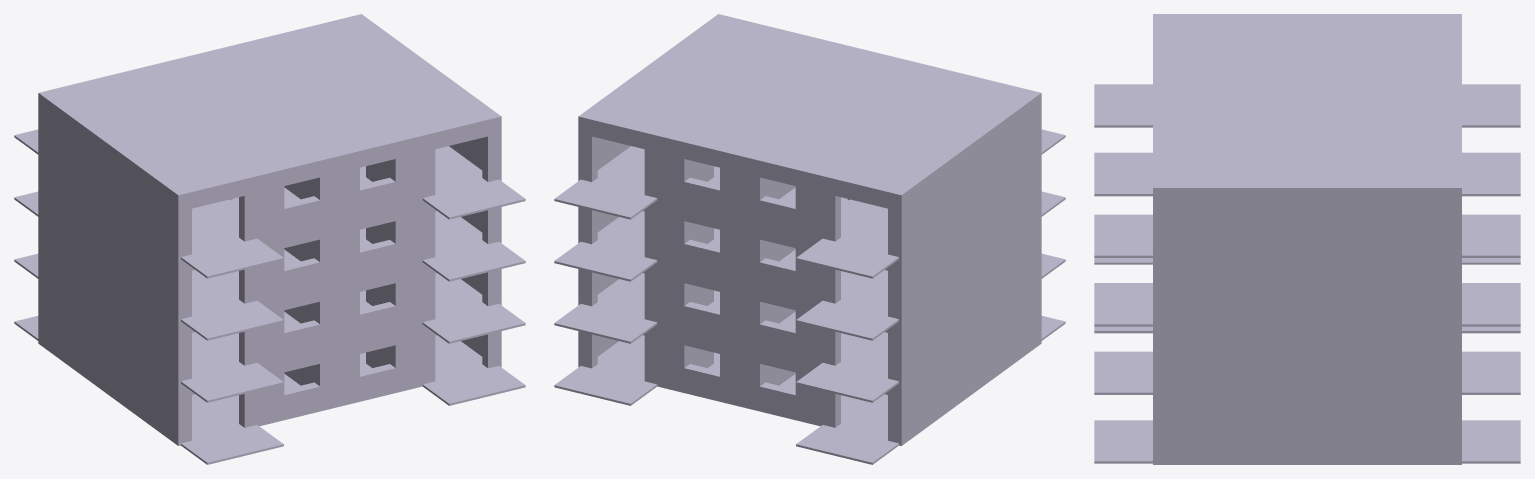
Rendered from apartments.glb.
The picture shows the model from 3 angles, left to right: view 1: azimuth 30°, elevation 25°; view 2: azimuth 150°, elevation 25°; view 3: azimuth 270°, elevation 25°; orthographic projection. The views are drawn at different scales.
Parts seen in each view (by area): view 1: Roof, Trim12, Trim4, Trim8, Trim1, Trim15, Trim11, Trim7, Trim, Trim13, Trim9, Trim2 (+1 smaller); view 2: Roof, Trim13, Trim5, Trim9, Trim2, Trim14, Trim10, Trim6, Trim3, Trim12, Trim8, Trim1 (+1 smaller); view 3: Roof, Trim14, Trim15, Trim, Trim10, Trim11, Trim3, Trim6, Trim7, Trim8, Trim9, Trim12 (+3 smaller).
Boxes of the visible parts, x1,y1,x2,y2 form: Roof: (38, 14, 501, 197); Trim12: (108, 146, 339, 278); Trim4: (108, 271, 339, 402); Trim8: (108, 209, 339, 340); Trim1: (108, 333, 339, 464); Trim15: (340, 119, 525, 220); Trim11: (340, 200, 525, 282); Trim7: (340, 262, 525, 344); Trim: (340, 324, 525, 406); Trim13: (14, 95, 108, 207); Trim9: (14, 157, 108, 270); Trim2: (14, 282, 108, 394); Roof: (578, 14, 1041, 197); Trim13: (740, 146, 971, 278); Trim5: (740, 271, 971, 402); Trim9: (740, 209, 971, 340); Trim2: (740, 333, 971, 464); Trim14: (554, 119, 739, 220); Trim10: (554, 200, 739, 282); Trim6: (554, 262, 739, 344); Trim3: (554, 324, 739, 406); Trim12: (971, 95, 1065, 207); Trim8: (971, 157, 1065, 270); Trim1: (971, 282, 1065, 394); Roof: (1153, 14, 1461, 190); Trim14: (1307, 190, 1520, 259); Trim15: (1094, 190, 1307, 259); Trim: (1094, 396, 1307, 464); Trim10: (1307, 259, 1520, 327); Trim11: (1094, 259, 1307, 327); Trim3: (1307, 396, 1520, 464); Trim6: (1307, 328, 1520, 396); Trim7: (1094, 328, 1307, 396); Trim8: (1094, 152, 1152, 196); Trim9: (1462, 152, 1520, 196); Trim12: (1094, 84, 1152, 127).
Bounding box in the file's own units: 16.26 × 12.06 × 16.83.
